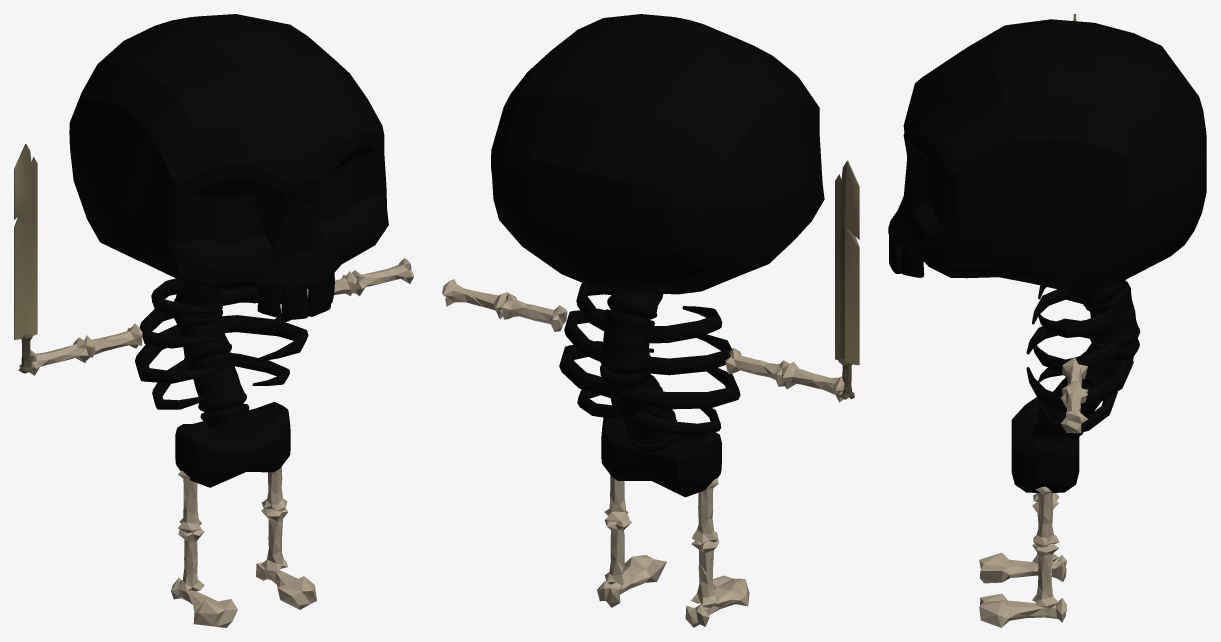
Rendered from Skelet (3).fbx.
3 renders of one model, left to right at view 1: azimuth 30°, elevation 25°; view 2: azimuth 150°, elevation 25°; view 3: azimuth 270°, elevation 25°, orthographic. The views are drawn at different scales.
Parts seen in each view (by area): view 1: Retopo_Sphere, Плоскость.005; view 2: Retopo_Sphere, Плоскость.005; view 3: Retopo_Sphere.
Part boxes in pixels (box(x1,y1,x2,y2)): Retopo_Sphere: box(29, 14, 413, 627); Плоскость.005: box(14, 144, 37, 373); Retopo_Sphere: box(442, 14, 844, 627); Плоскость.005: box(835, 160, 859, 399); Retopo_Sphere: box(888, 19, 1206, 627).
Size of the model in its own units: 1.85 by 2.5 by 1.28.
